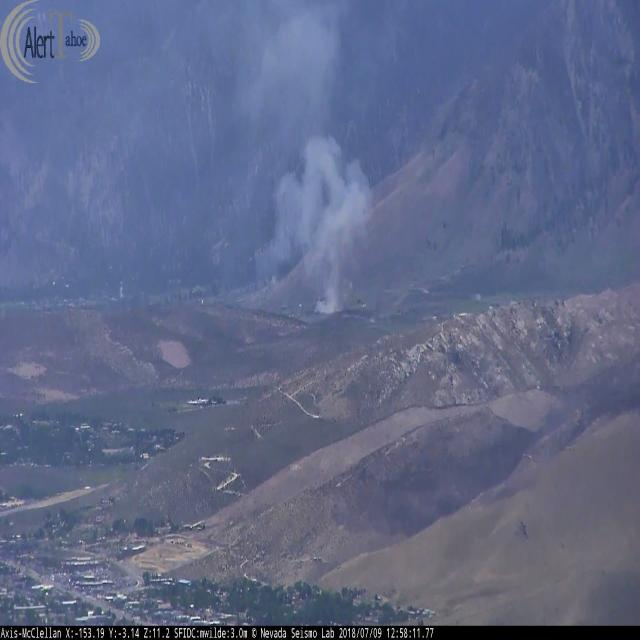smoke: (238, 0, 373, 312)
